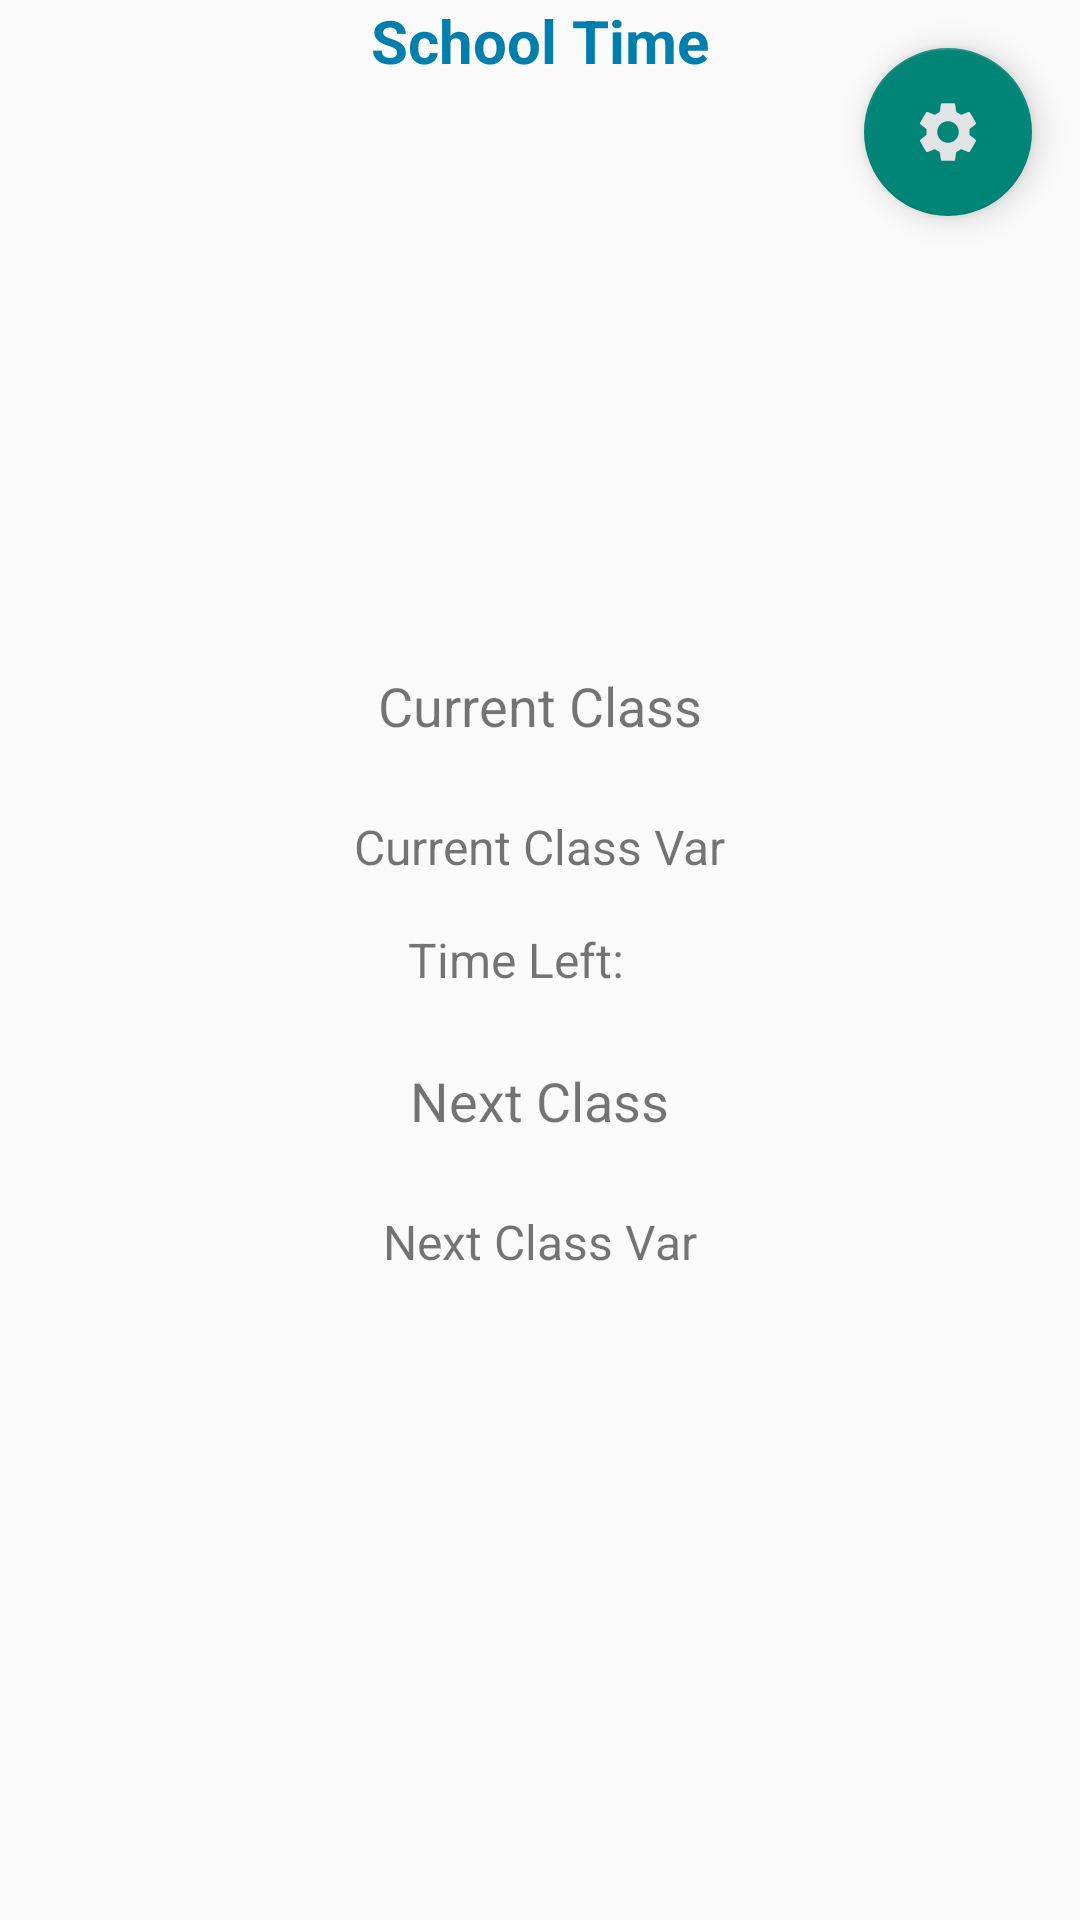

Icons on this 1080x1920 Android screen, each with the point to tap as (x=x, y=y):
Settings: (x=948, y=132)
